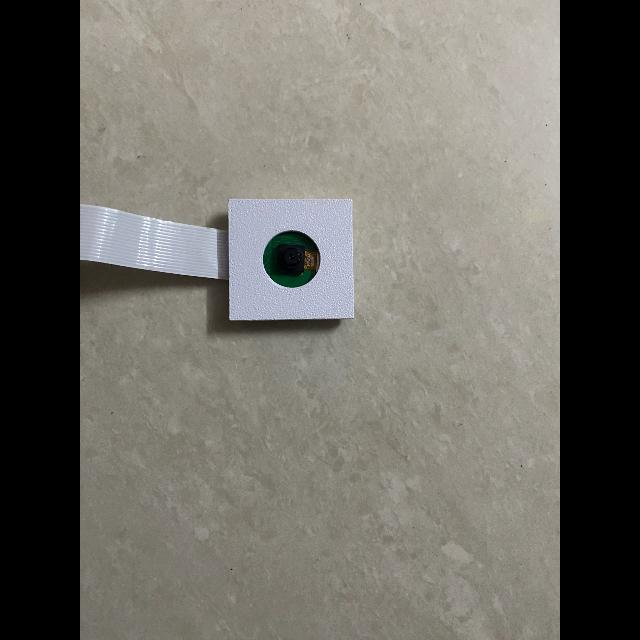RASPBERY PI CAM ENCLOSURE: (228, 199, 354, 321)
